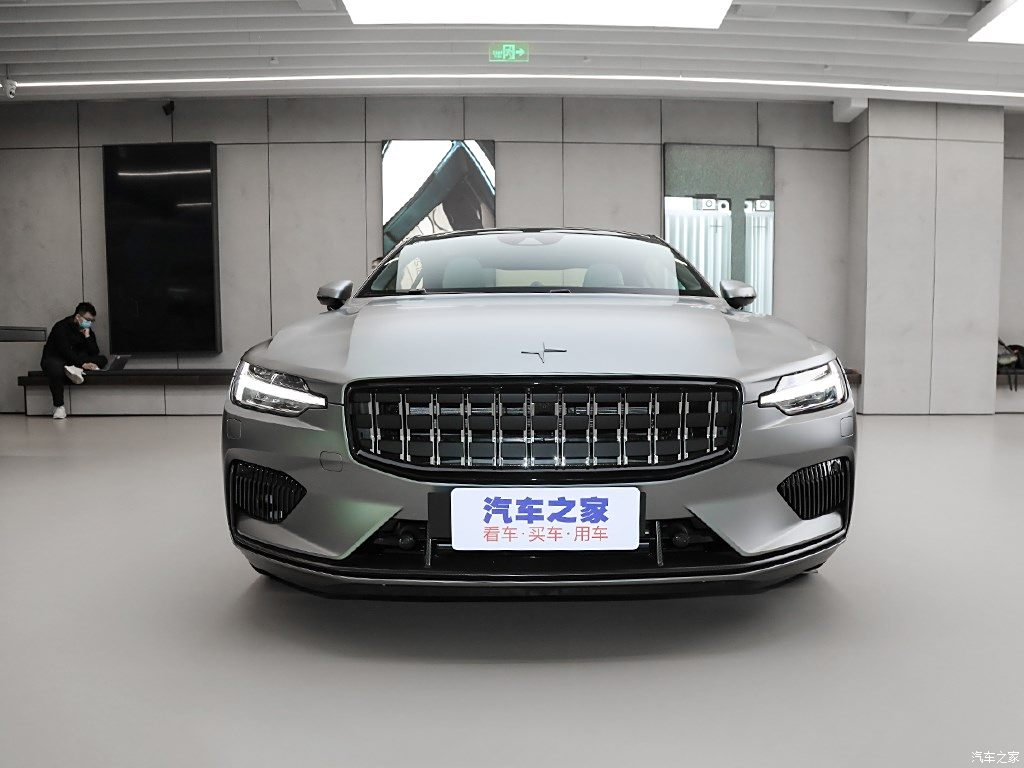Polestar: (521, 343, 566, 363)
